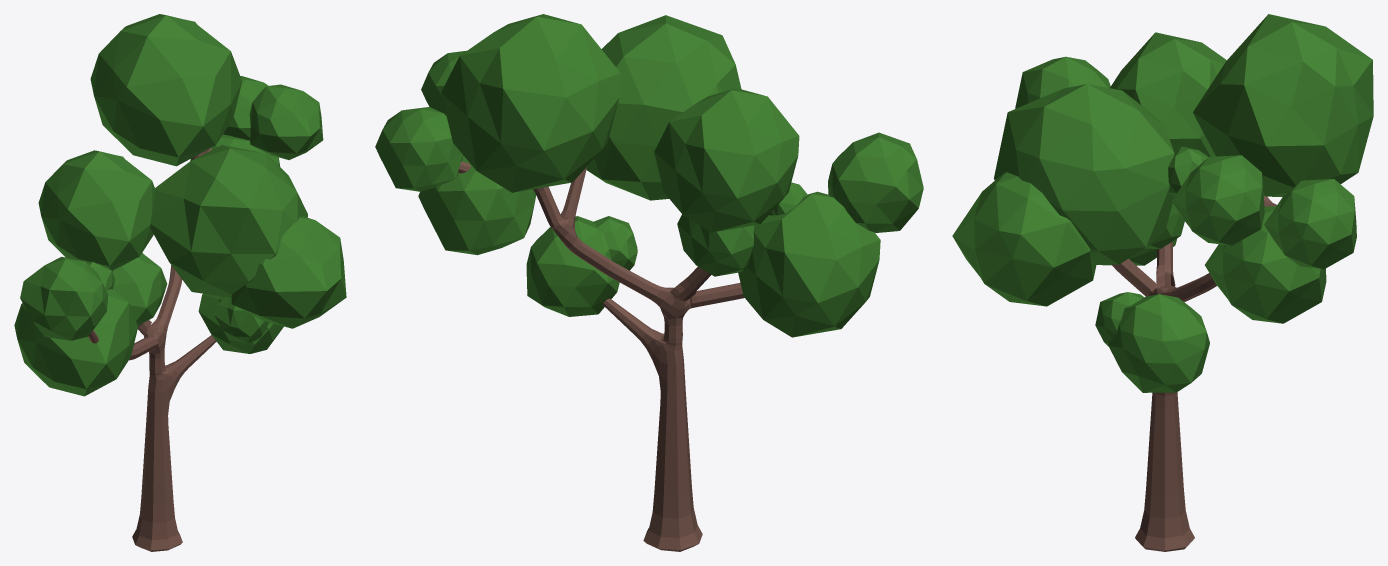
File: tree (6).fbx
The picture shows the model from 3 angles, left to right: view 1: azimuth 30°, elevation 25°; view 2: azimuth 150°, elevation 25°; view 3: azimuth 270°, elevation 25°; orthographic projection. The views are drawn at different scales.
Visible parts, largest first — view 1: Tree; view 2: Tree; view 3: Tree.
Part boxes in pixels (x1,y1,x2,y2): Tree: [14, 14, 346, 551]; Tree: [375, 14, 923, 551]; Tree: [952, 14, 1373, 551].
Bounding box in the file's own units: 2939 × 3748 × 2572.
